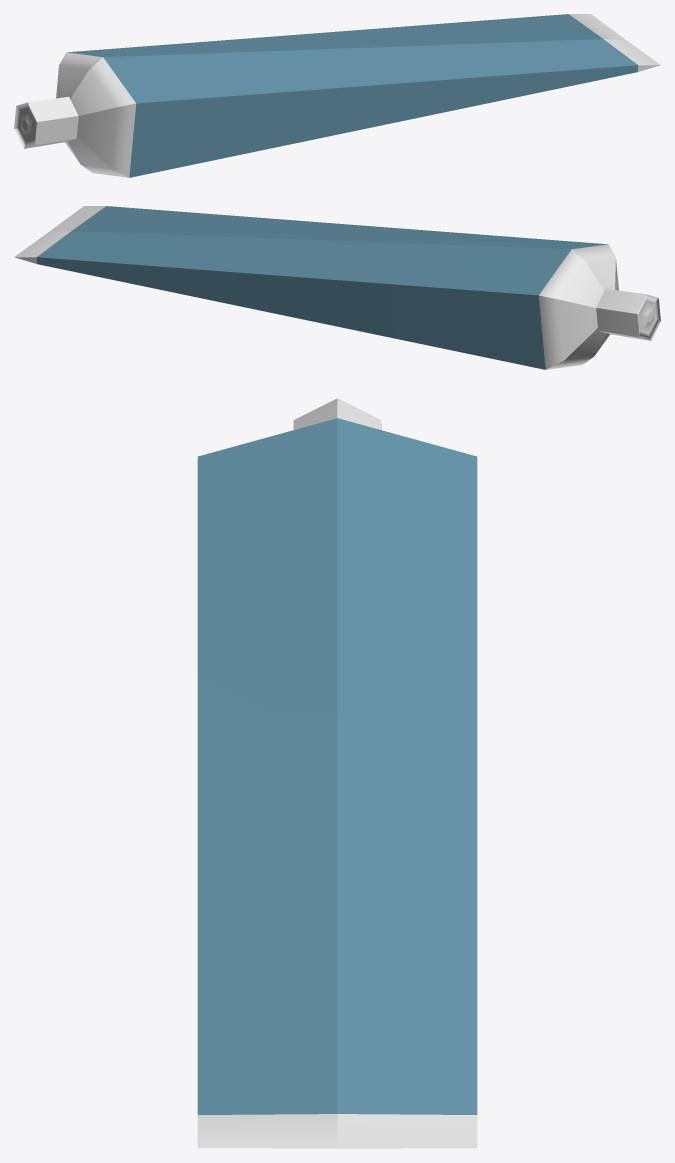
The model's file is IO_ToothPasteTube_02.fbx.
The picture shows the model from 3 angles, top to bottom: view 1: azimuth 30°, elevation 25°; view 2: azimuth 150°, elevation 25°; view 3: azimuth 270°, elevation 25°; orthographic projection. The views are drawn at different scales.
Parts seen in each view (by area): view 1: Tooth_Paste_Tube; view 2: Tooth_Paste_Tube; view 3: Tooth_Paste_Tube.
Boxes of the visible parts, x1=… form: Tooth_Paste_Tube: x1=14, y1=14, x2=660, y2=177; Tooth_Paste_Tube: x1=14, y1=206, x2=660, y2=369; Tooth_Paste_Tube: x1=197, y1=398, x2=477, y2=1148.
Size of the model in its own units: 19.89 by 3.57 by 4.
